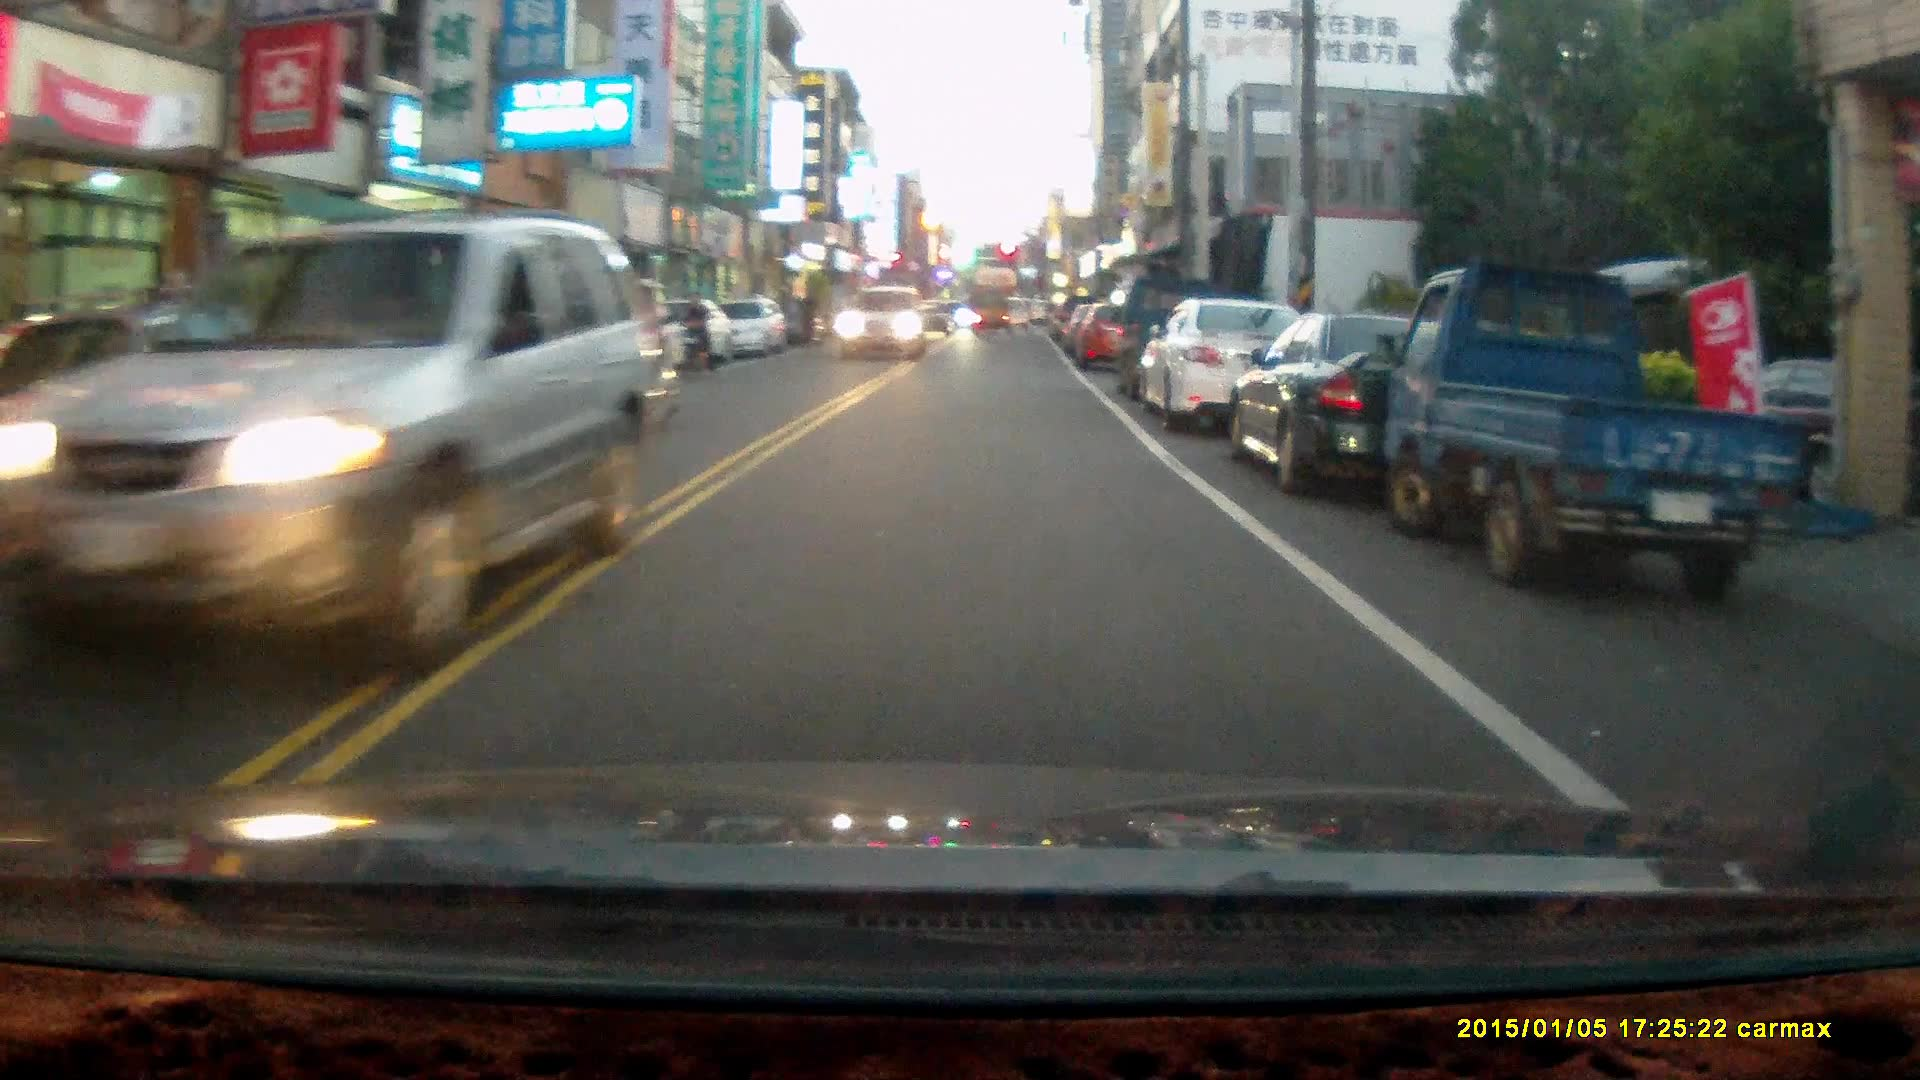pedestrian: (798, 283, 819, 343)
rider: (675, 291, 718, 375)
vehicle: (8, 211, 644, 672), (1382, 263, 1829, 598), (1225, 310, 1572, 505), (1136, 297, 1327, 438), (834, 286, 928, 366), (1075, 300, 1155, 374), (717, 295, 795, 362), (971, 287, 1013, 337)
